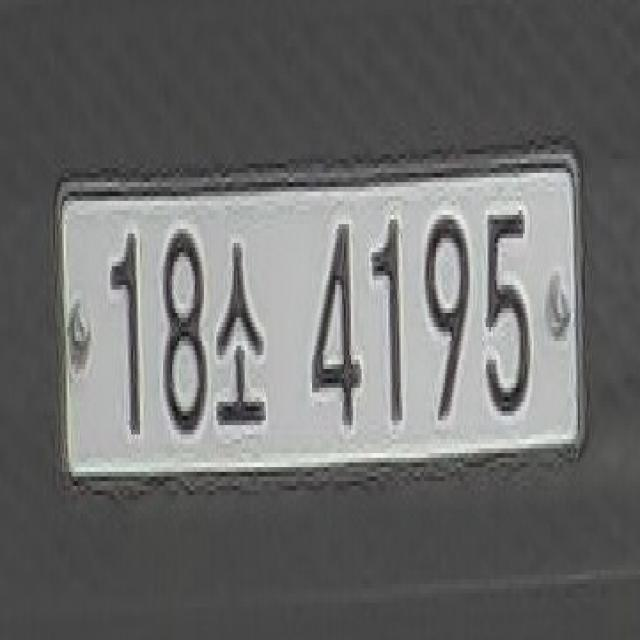1: (106, 220, 148, 453), (367, 210, 408, 430)
4: (309, 215, 365, 444)
5: (482, 206, 534, 416)
8: (160, 215, 211, 448)
9: (422, 201, 475, 425)
license_plate: (52, 131, 590, 514)
so: (211, 233, 269, 434)
